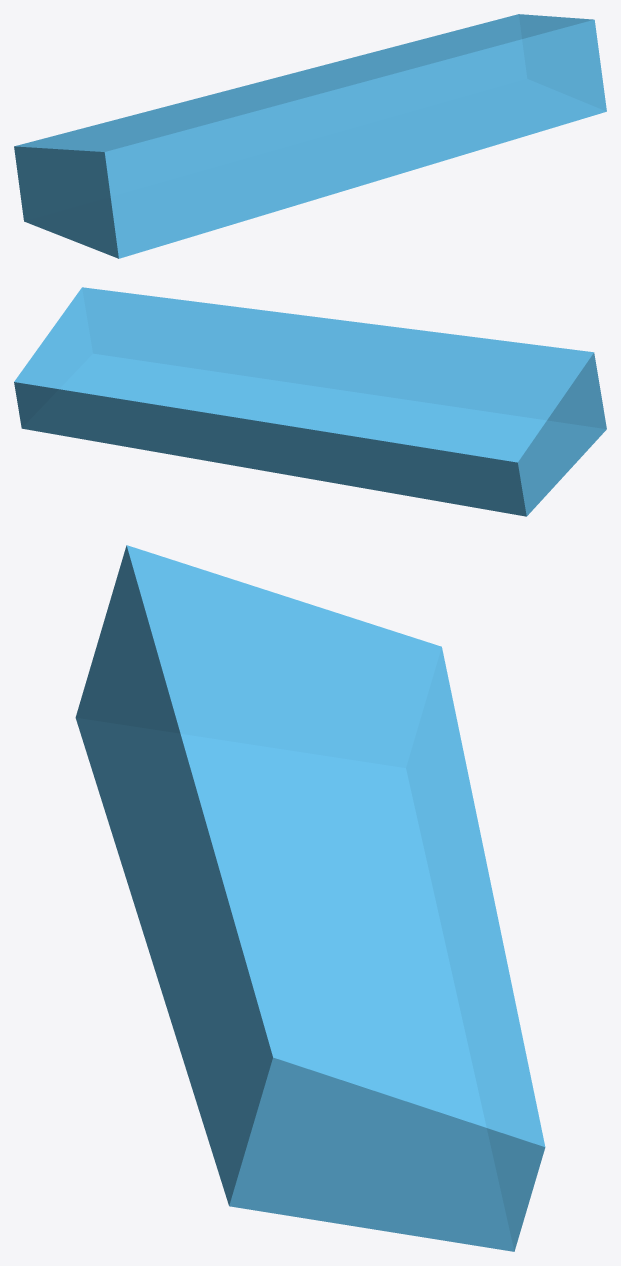
The model's file is Event_420094457_HErechit_83.fbx.
3 renders of one model, top to bottom at view 1: azimuth 30°, elevation 25°; view 2: azimuth 150°, elevation 25°; view 3: azimuth 270°, elevation 25°, orthographic. The views are drawn at different scales.
Visible parts, largest first — view 1: Model; view 2: Model; view 3: Model.
Part boxes in pixels (x1=…): Model: x1=14, y1=14, x2=606, y2=258; Model: x1=14, y1=287, x2=606, y2=516; Model: x1=75, y1=545, x2=545, y2=1251.
Size of the model in its own units: 1.78 by 0.4321 by 0.7579.
